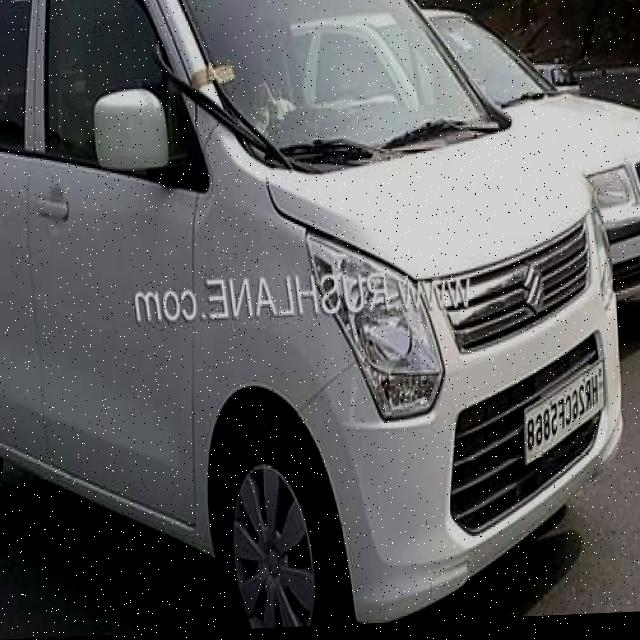plate: (523, 364, 607, 472)
